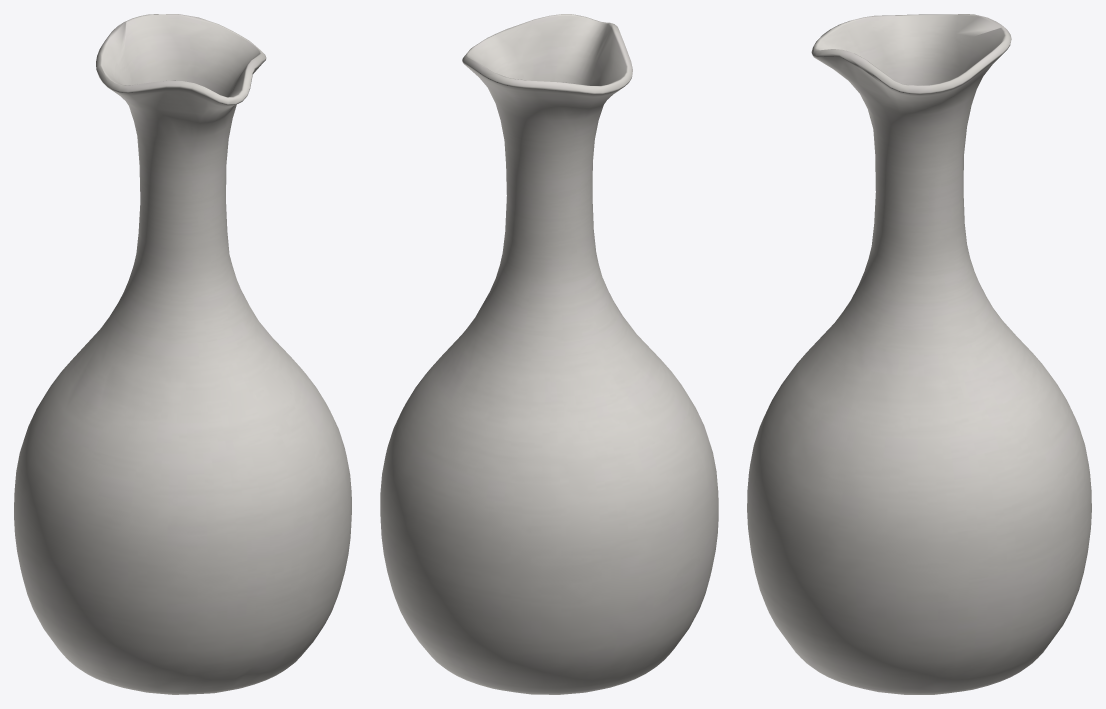
File: ceramic_vase_01.glb
3 renders of one model, left to right at view 1: azimuth 30°, elevation 25°; view 2: azimuth 150°, elevation 25°; view 3: azimuth 270°, elevation 25°, orthographic.
Parts seen in each view (by area): view 1: ceramic_vase_01; view 2: ceramic_vase_01; view 3: ceramic_vase_01.
Boxes of the visible parts, <box> form: ceramic_vase_01: <box>14,14,351,694</box>; ceramic_vase_01: <box>380,14,718,694</box>; ceramic_vase_01: <box>747,14,1091,694</box>.
Size of the model in its own units: 0.2036 by 0.4003 by 0.2036.
1 material, 1 textured.
